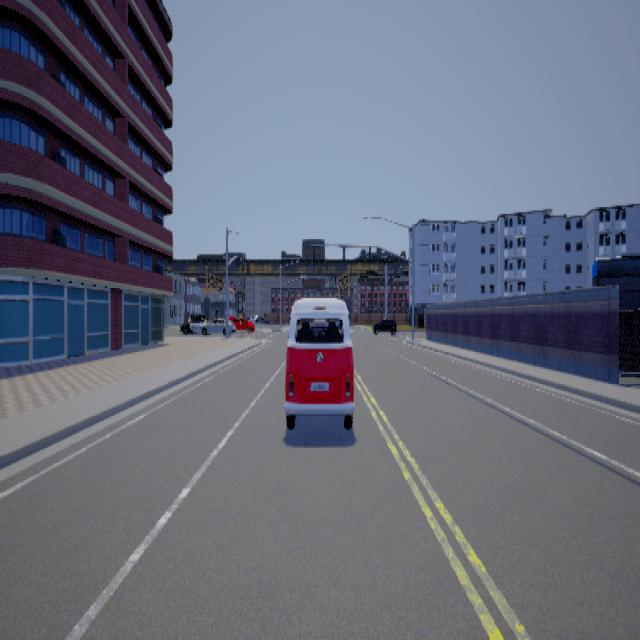vehicle: (285, 296, 356, 428), (180, 312, 227, 335), (230, 313, 271, 335), (371, 313, 400, 335)
